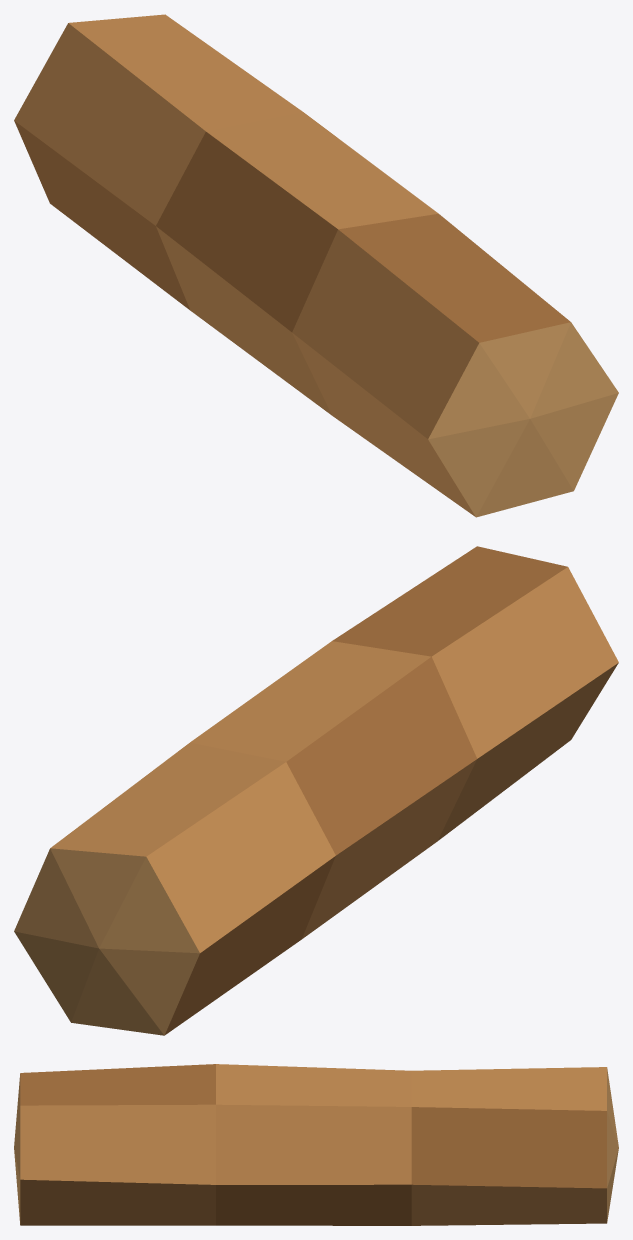
The model's file is wood_rod.glb.
The picture shows the model from 3 angles, top to bottom: view 1: azimuth 30°, elevation 25°; view 2: azimuth 150°, elevation 25°; view 3: azimuth 270°, elevation 25°; orthographic projection. The views are drawn at different scales.
Parts seen in each view (by area): view 1: wood_rod; view 2: wood_rod; view 3: wood_rod.
Part boxes in pixels (x1,y1,x2,y2): wood_rod: [14, 14, 618, 517]; wood_rod: [14, 546, 618, 1035]; wood_rod: [14, 1064, 618, 1225].
Size of the model in its own units: 0.2674 by 0.242 by 1.01.
